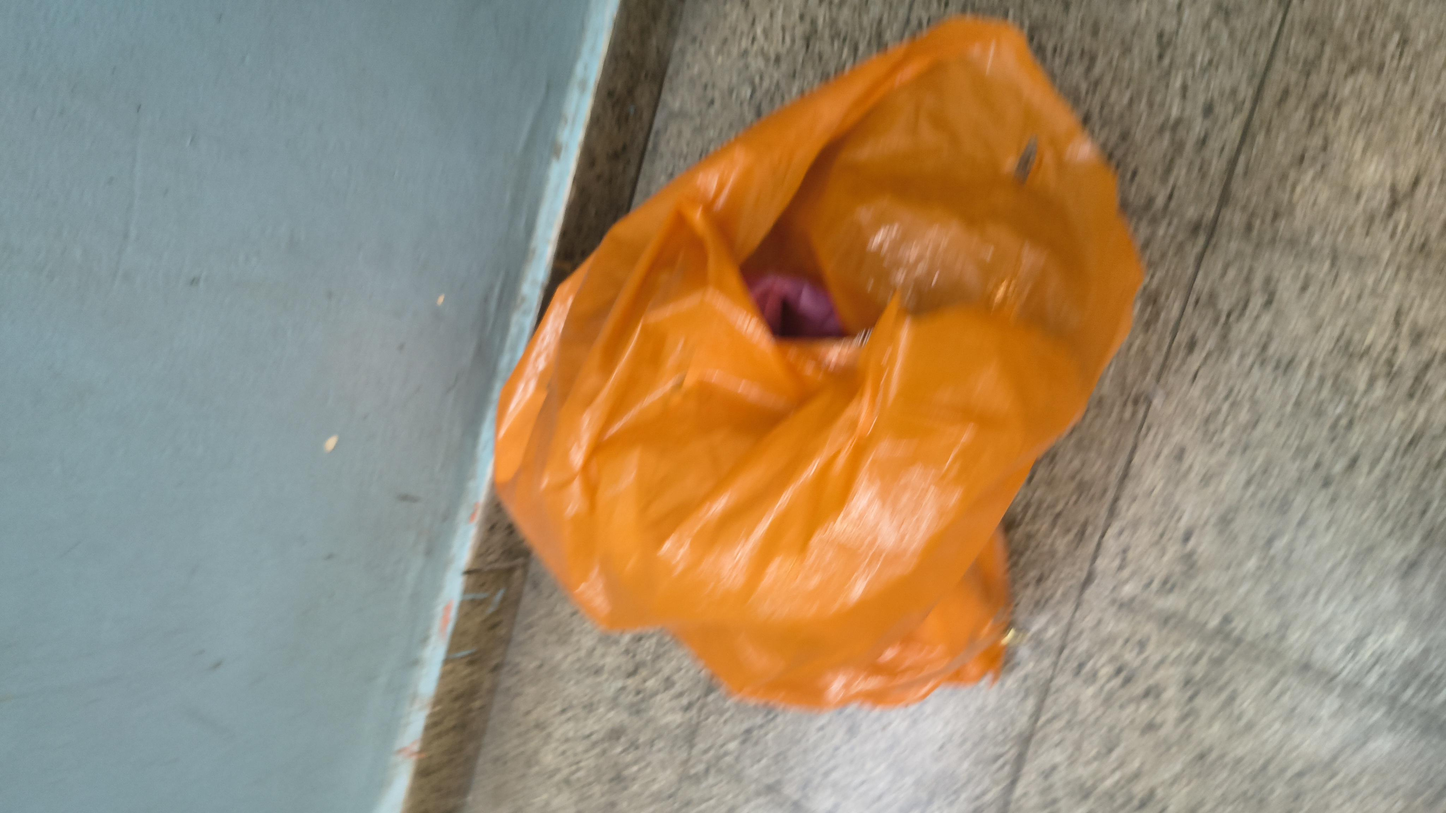Garbage: (107, 238, 1431, 673)
